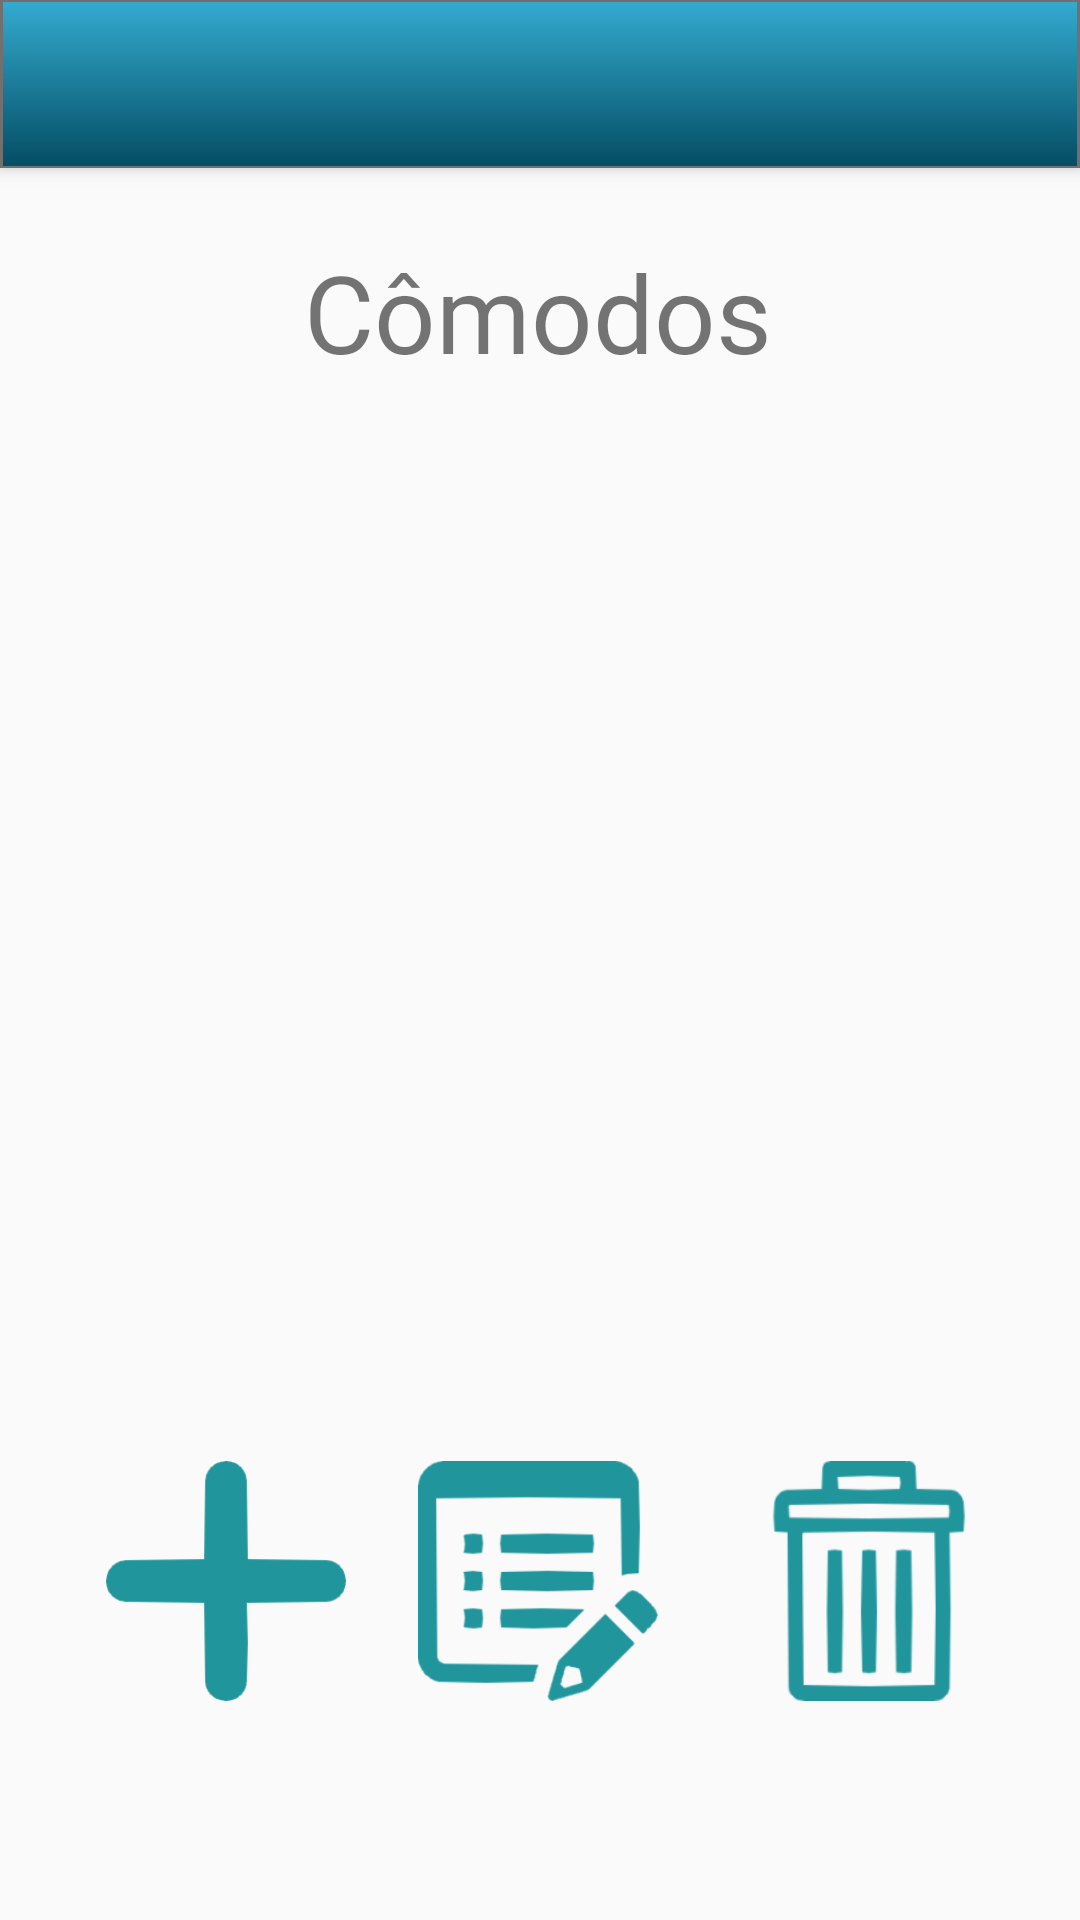

Named icons in this screenshot (1080px x 1920px) and their bounding boxes, detection(x1, y1, x2, y2):
add: detection(106, 1461, 346, 1701)
delete no select: detection(773, 1461, 965, 1701)
edit no select: detection(418, 1461, 658, 1701)
